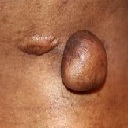Keloids: (62, 29, 107, 93), (17, 36, 55, 54)
